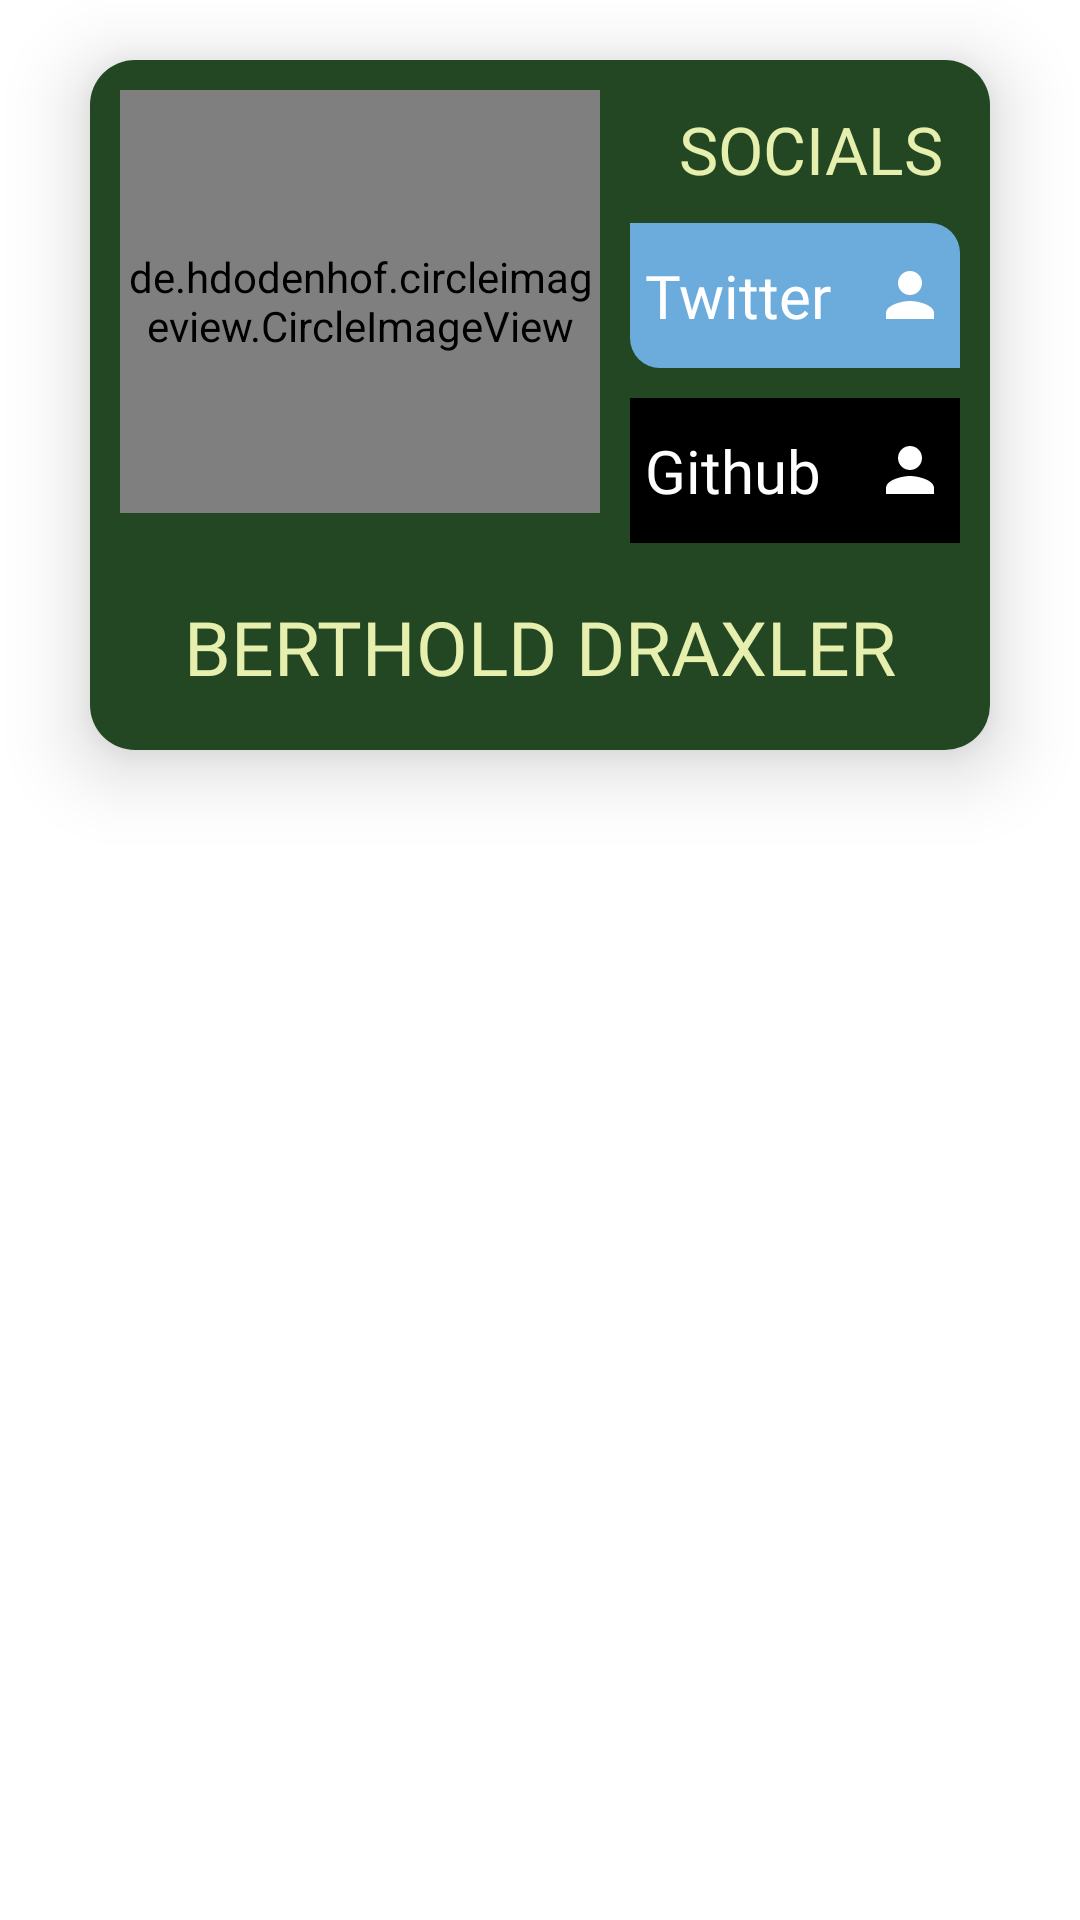

Icons on this 1080 x 1920 Android screen, each with its box as bbox=(x1, y1, x2, y2):
person: bbox=(886, 271, 934, 319), bbox=(886, 446, 934, 494)
